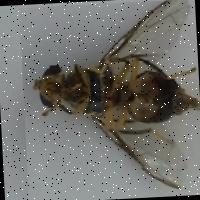Oriental-fruit-fly: (19, 0, 200, 200)
